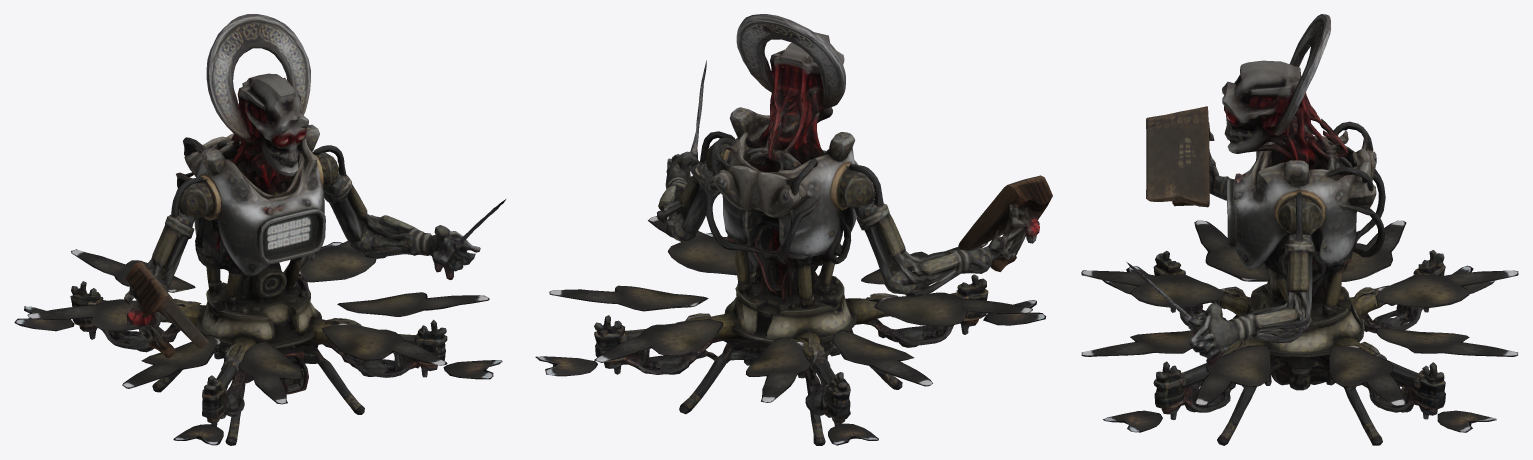
File: teee.fbx
3 renders of one model, left to right at view 1: azimuth 30°, elevation 25°; view 2: azimuth 150°, elevation 25°; view 3: azimuth 270°, elevation 25°, orthographic. The views are drawn at different scales.
Visible parts, largest first — view 1: world; view 2: world; view 3: world.
Part boxes in pixels (x1,y1,x2,y2): world: [14, 14, 505, 445]; world: [535, 14, 1052, 445]; world: [1081, 14, 1518, 445].
Bounding box in the file's own units: 301 × 298 × 300.
